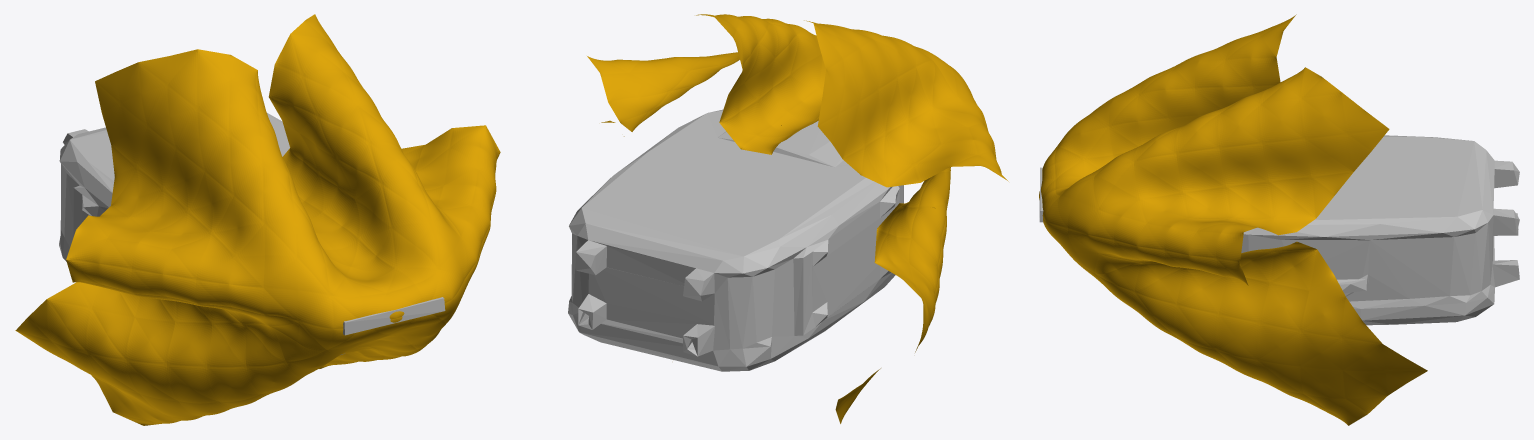
File: nsubdiv.glb
3 renders of one model, left to right at view 1: azimuth 30°, elevation 25°; view 2: azimuth 150°, elevation 25°; view 3: azimuth 270°, elevation 25°, orthographic. The views are drawn at different scales.
Visible parts, largest first — view 1: level_4.ply, object.obj; view 2: object.obj, level_4.ply; view 3: level_4.ply, object.obj.
Boxes of the visible parts, bbox=[...] form: level_4.ply: bbox=[15, 14, 500, 425]; object.obj: bbox=[59, 113, 445, 355]; object.obj: bbox=[568, 109, 903, 371]; level_4.ply: bbox=[587, 14, 1008, 423]; level_4.ply: bbox=[1039, 14, 1427, 425]; object.obj: bbox=[1039, 135, 1519, 325].
Bounding box in the file's own units: 0.4062 × 0.3408 × 0.4324.
